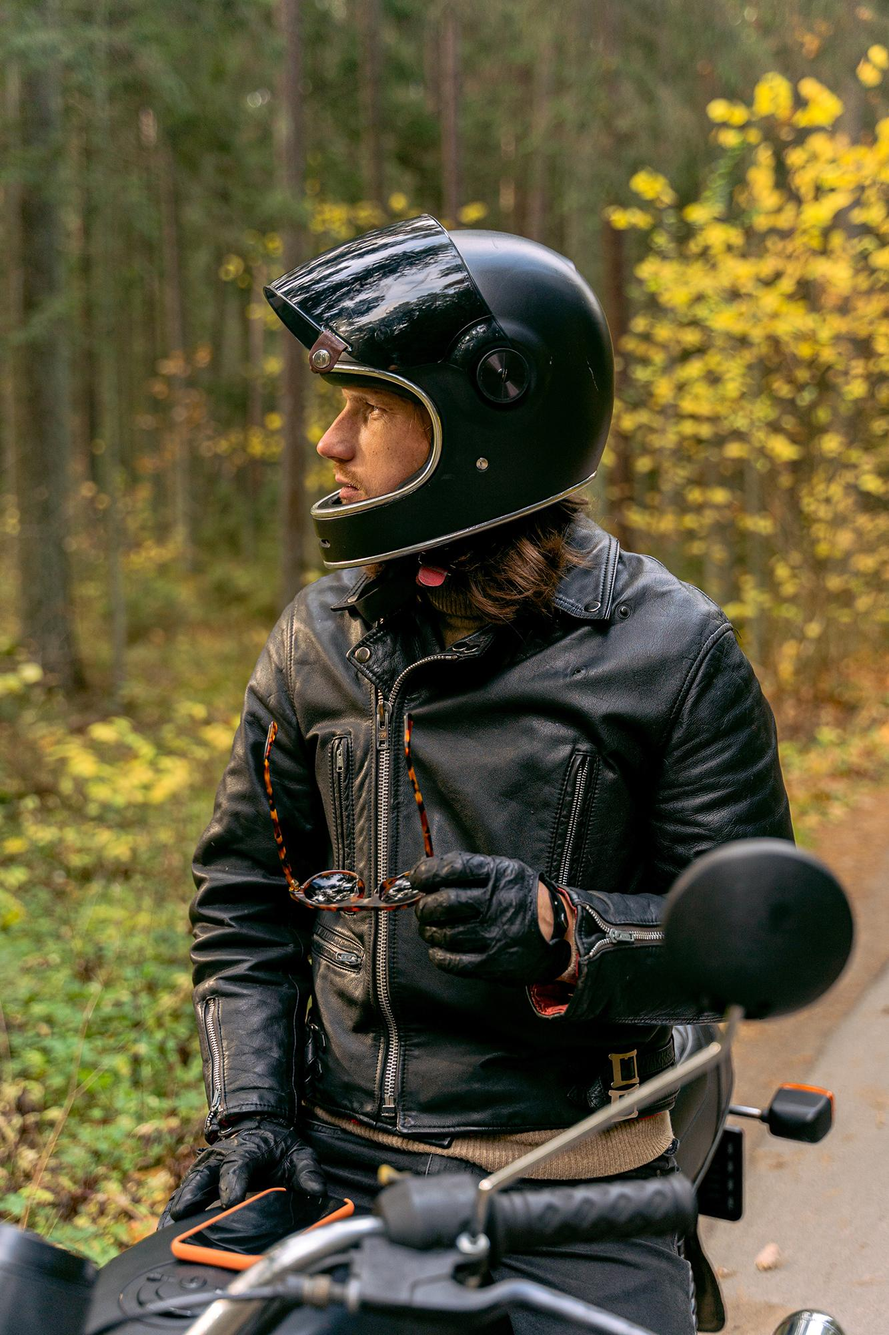helmet: (261, 210, 617, 591)
